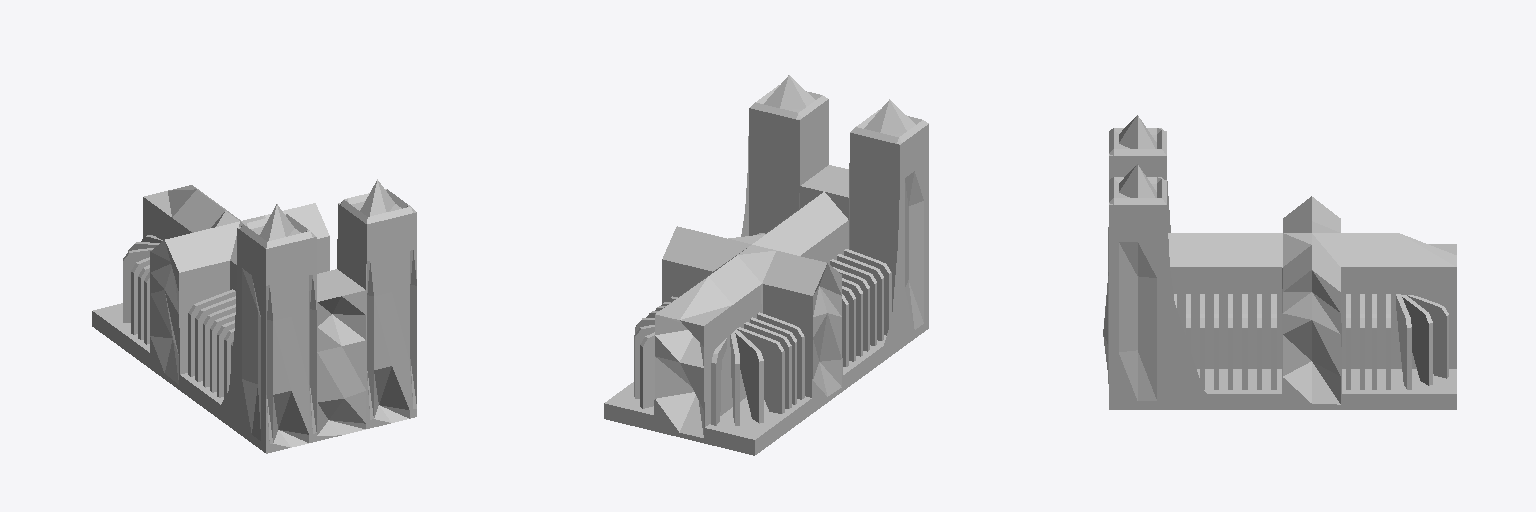
Rendered from NotreDame.obj.
3 renders of one model, left to right at view 1: azimuth 30°, elevation 25°; view 2: azimuth 150°, elevation 25°; view 3: azimuth 270°, elevation 25°, orthographic.
Visible parts, largest first — view 1: Cube.030; view 2: Cube.030; view 3: Cube.030.
Boxes of the visible parts, x1,y1,x2,y2 form: Cube.030: [92, 179, 416, 453]; Cube.030: [604, 75, 928, 455]; Cube.030: [1103, 115, 1456, 409].
Size of the model in its own units: 20 by 29.58 by 40.63.